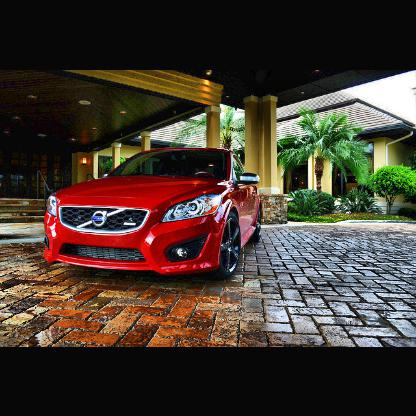Volvo C30 Hatchback 2012: (43, 144, 265, 282)
